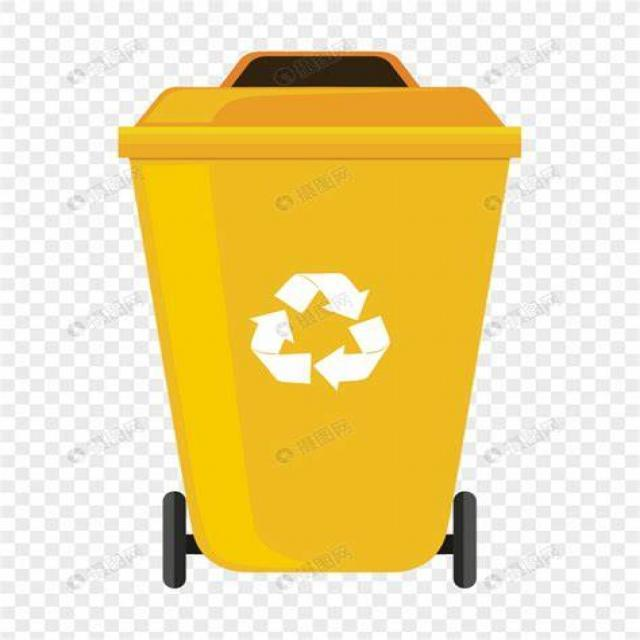garbage container: (102, 22, 539, 602)
